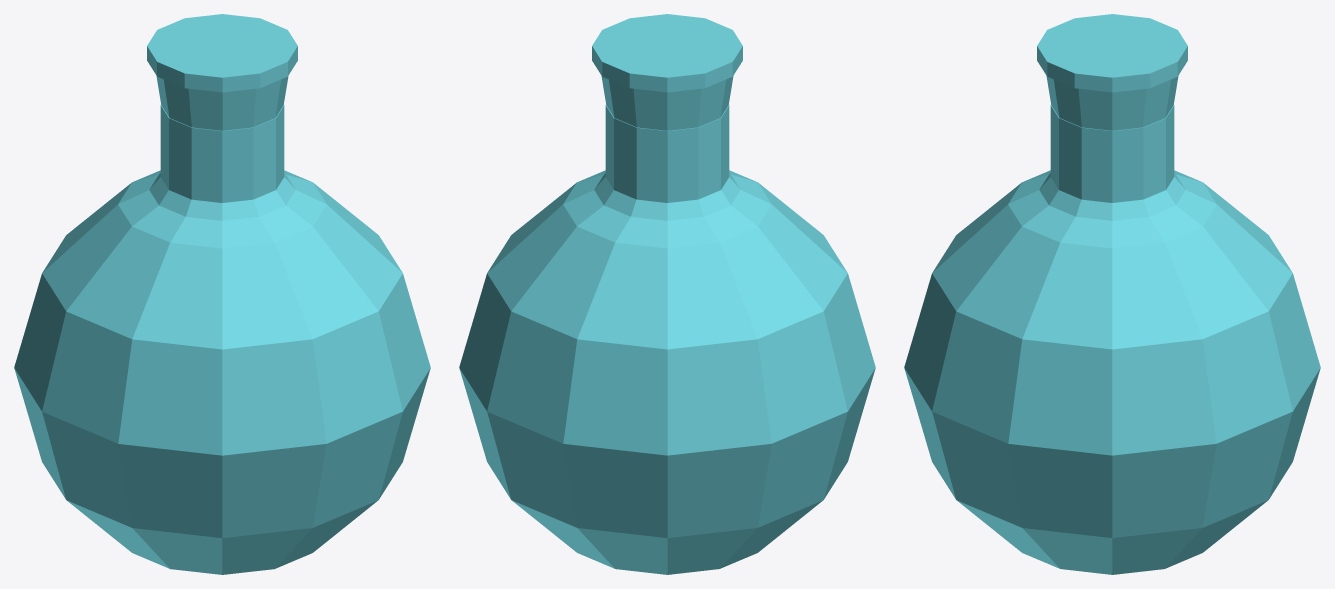
File: SM_Flask_3_A.glb
3 renders of one model, left to right at view 1: azimuth 30°, elevation 25°; view 2: azimuth 150°, elevation 25°; view 3: azimuth 270°, elevation 25°, orthographic.
Parts seen in each view (by area): view 1: SM_Flask_3_A, SM_Flask_Lid_A; view 2: SM_Flask_3_A, SM_Flask_Lid_A; view 3: SM_Flask_3_A, SM_Flask_Lid_A.
Boxes of the visible parts, x1=… form: SM_Flask_3_A: x1=14, y1=104, x2=430, y2=574; SM_Flask_Lid_A: x1=147, y1=14, x2=297, y2=130; SM_Flask_3_A: x1=459, y1=104, x2=875, y2=574; SM_Flask_Lid_A: x1=592, y1=14, x2=742, y2=130; SM_Flask_3_A: x1=904, y1=104, x2=1320, y2=574; SM_Flask_Lid_A: x1=1037, y1=14, x2=1187, y2=130.
Bounding box in the file's own units: 0.2142 × 0.2863 × 0.2142.
